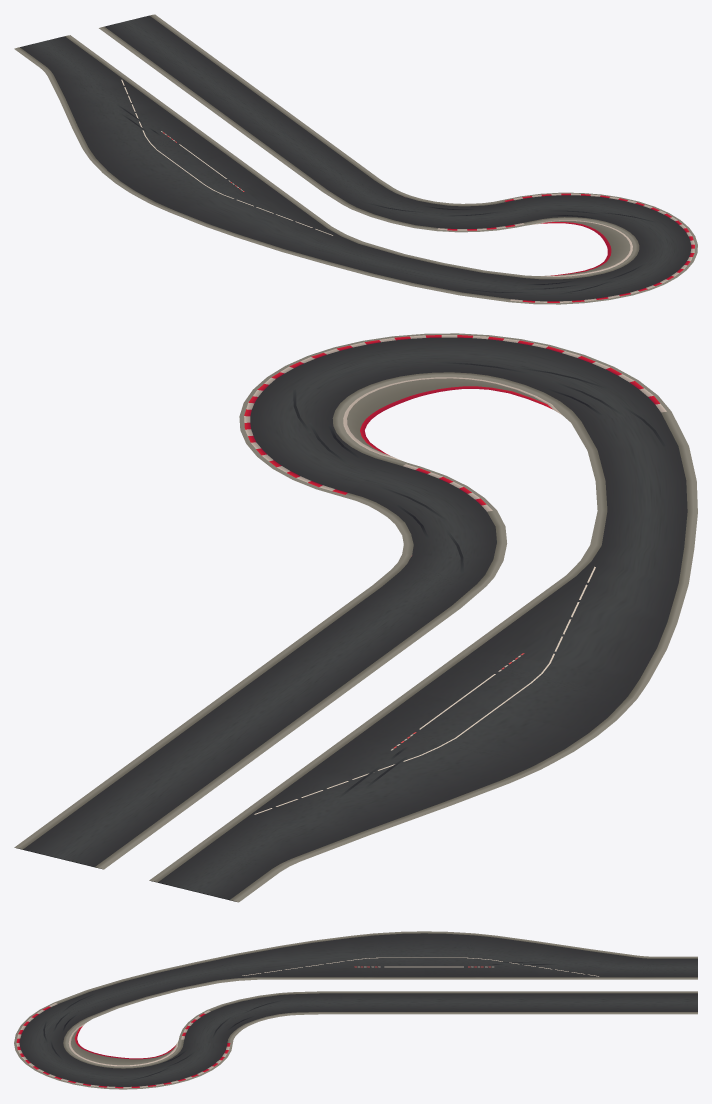
The model's file is Special_1C.fbx.
The picture shows the model from 3 angles, top to bottom: view 1: azimuth 30°, elevation 25°; view 2: azimuth 150°, elevation 25°; view 3: azimuth 270°, elevation 25°; orthographic projection. The views are drawn at different scales.
Visible parts, largest first — view 1: Special_1C, Special_1C_Skidmarks; view 2: Special_1C, Special_1C_Skidmarks; view 3: Special_1C, Special_1C_Skidmarks.
Part boxes in pixels (x1,y1,x2,y2): Special_1C: [14, 14, 697, 304]; Special_1C_Skidmarks: [116, 104, 655, 294]; Special_1C: [14, 333, 697, 902]; Special_1C_Skidmarks: [293, 361, 665, 797]; Special_1C: [14, 931, 697, 1089]; Special_1C_Skidmarks: [43, 961, 558, 1080].
Bounding box in the file's own units: 13688 × 12.08 × 25000.
